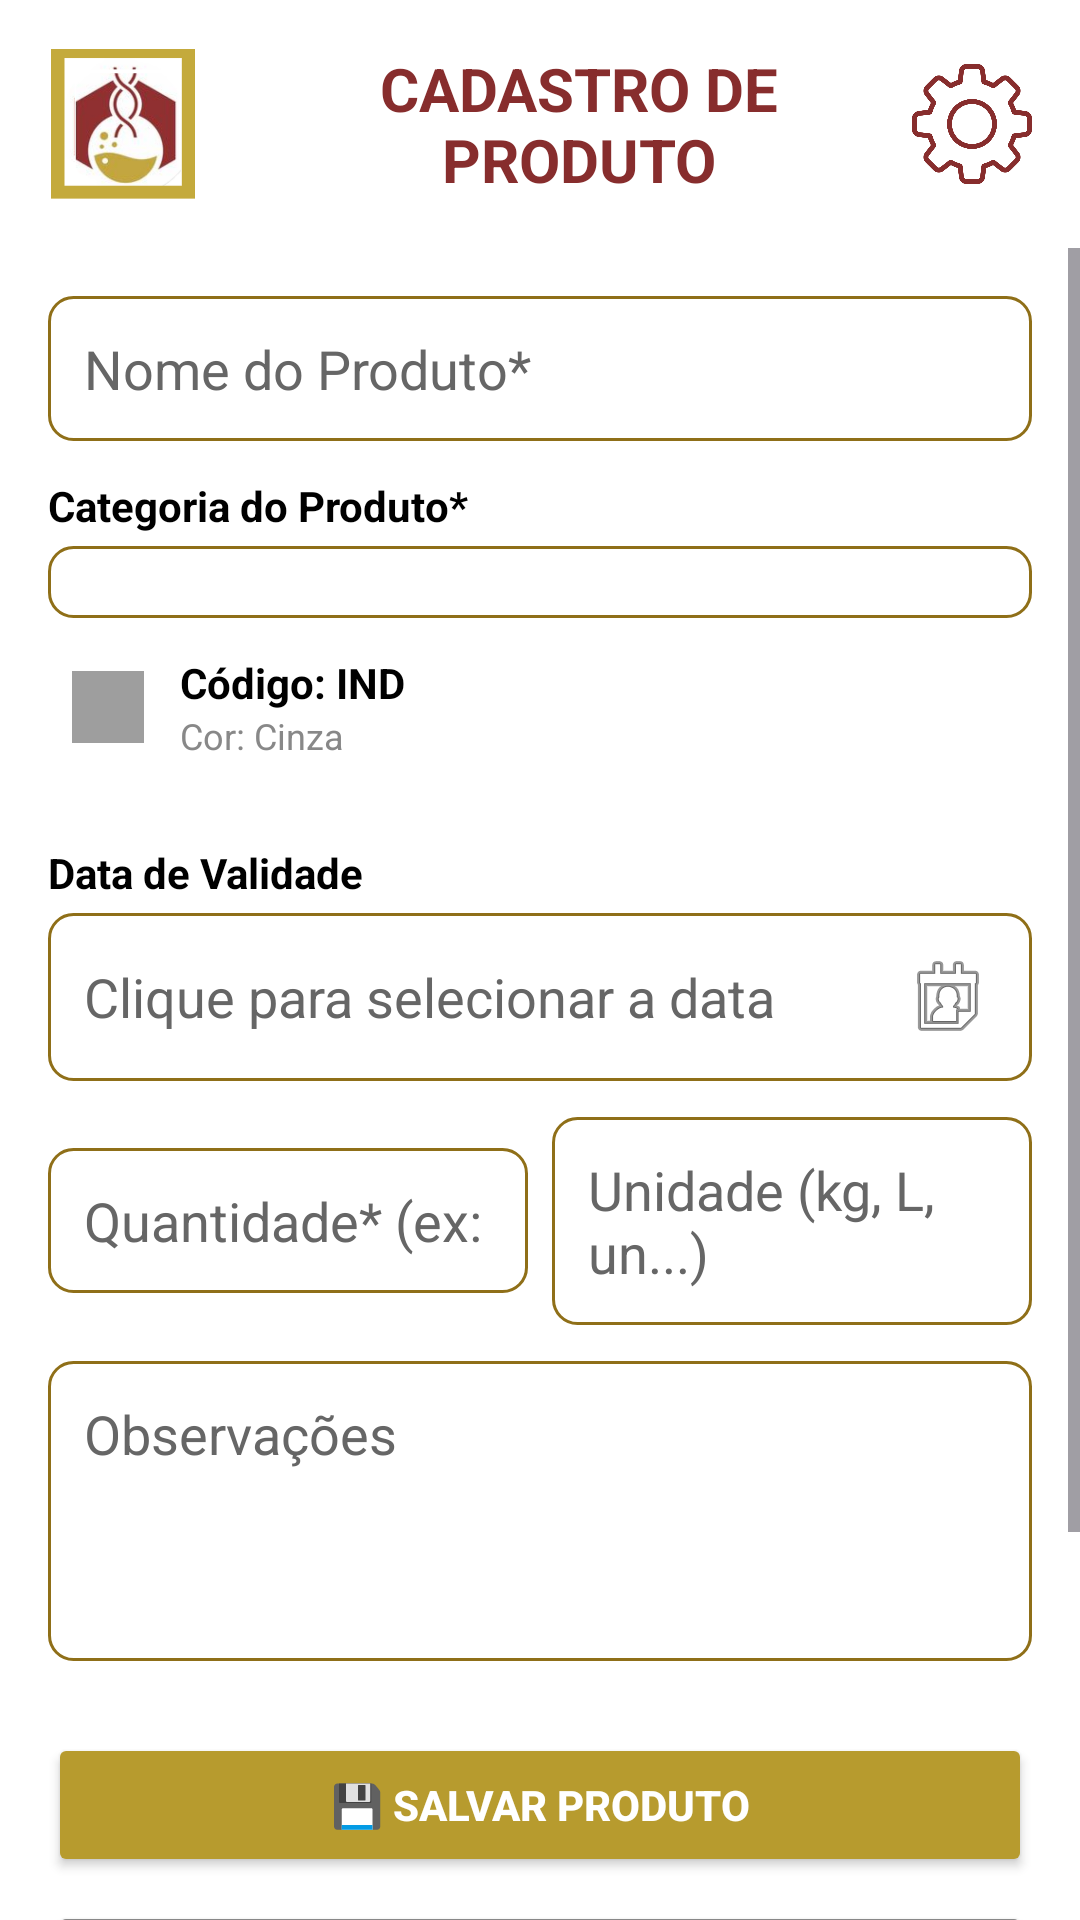

Icon click points for this 1080w x 1920h phone screenshot, format (x,y):
Configurações: (972,124)
